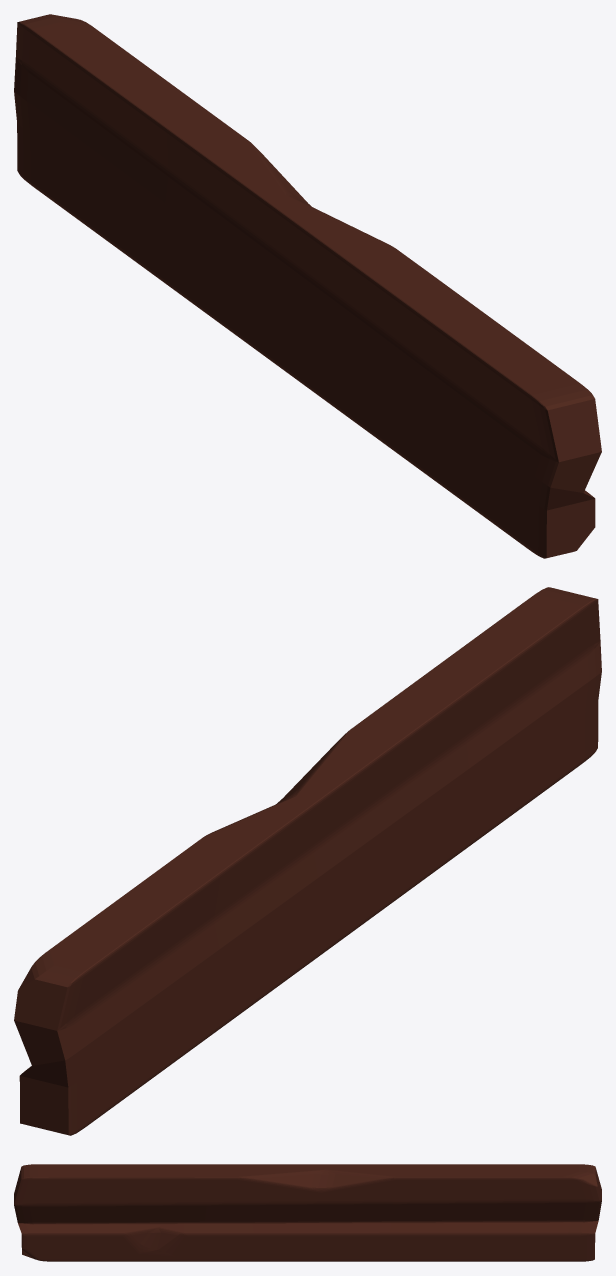
The model's file is Plank3.fbx.
3 views of the same model, one above another, from view 1: azimuth 30°, elevation 25°; view 2: azimuth 150°, elevation 25°; view 3: azimuth 270°, elevation 25° (orthographic). The views are drawn at different scales.
Visible parts, largest first — view 1: PlankSimple.001; view 2: PlankSimple.001; view 3: PlankSimple.001.
Part boxes in pixels (bbox=[...]): PlankSimple.001: bbox=[14, 14, 601, 558]; PlankSimple.001: bbox=[14, 587, 601, 1135]; PlankSimple.001: bbox=[14, 1164, 601, 1261].
Bounding box in the file's own units: 0.061 × 0.00332 × 0.0097.
